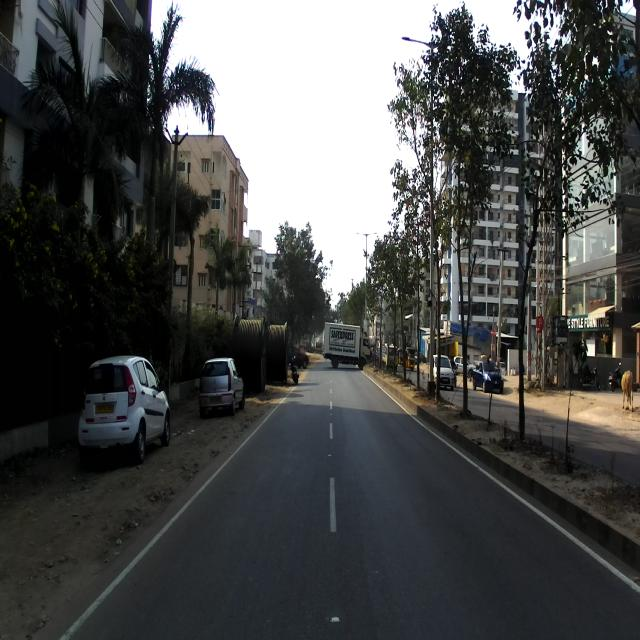car ahead at: (77, 352, 171, 456), (200, 358, 246, 416)
